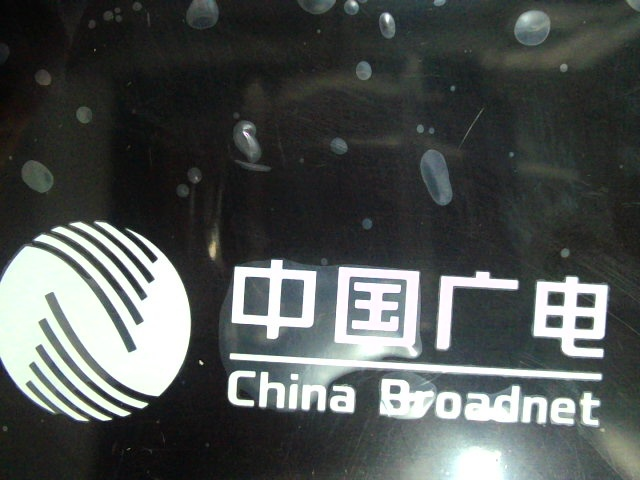AW_ChinaBroadNet: (1, 215, 610, 445)
